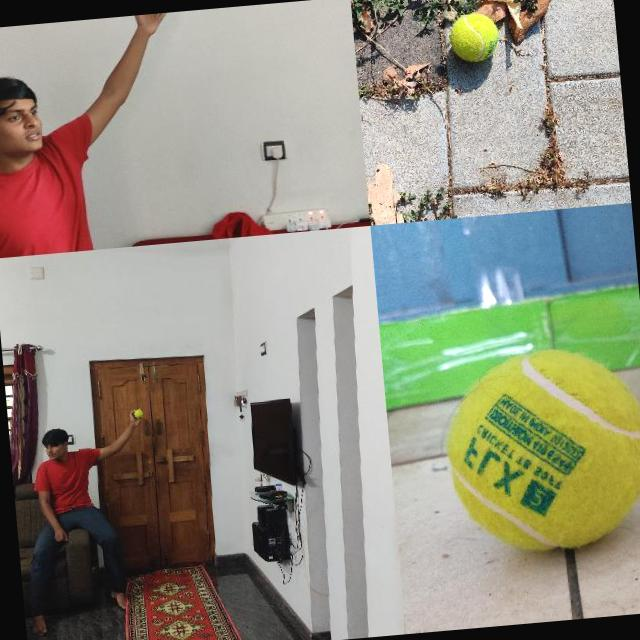Tennis Ball: (437, 339, 640, 558), (448, 10, 500, 62), (133, 408, 143, 417)
